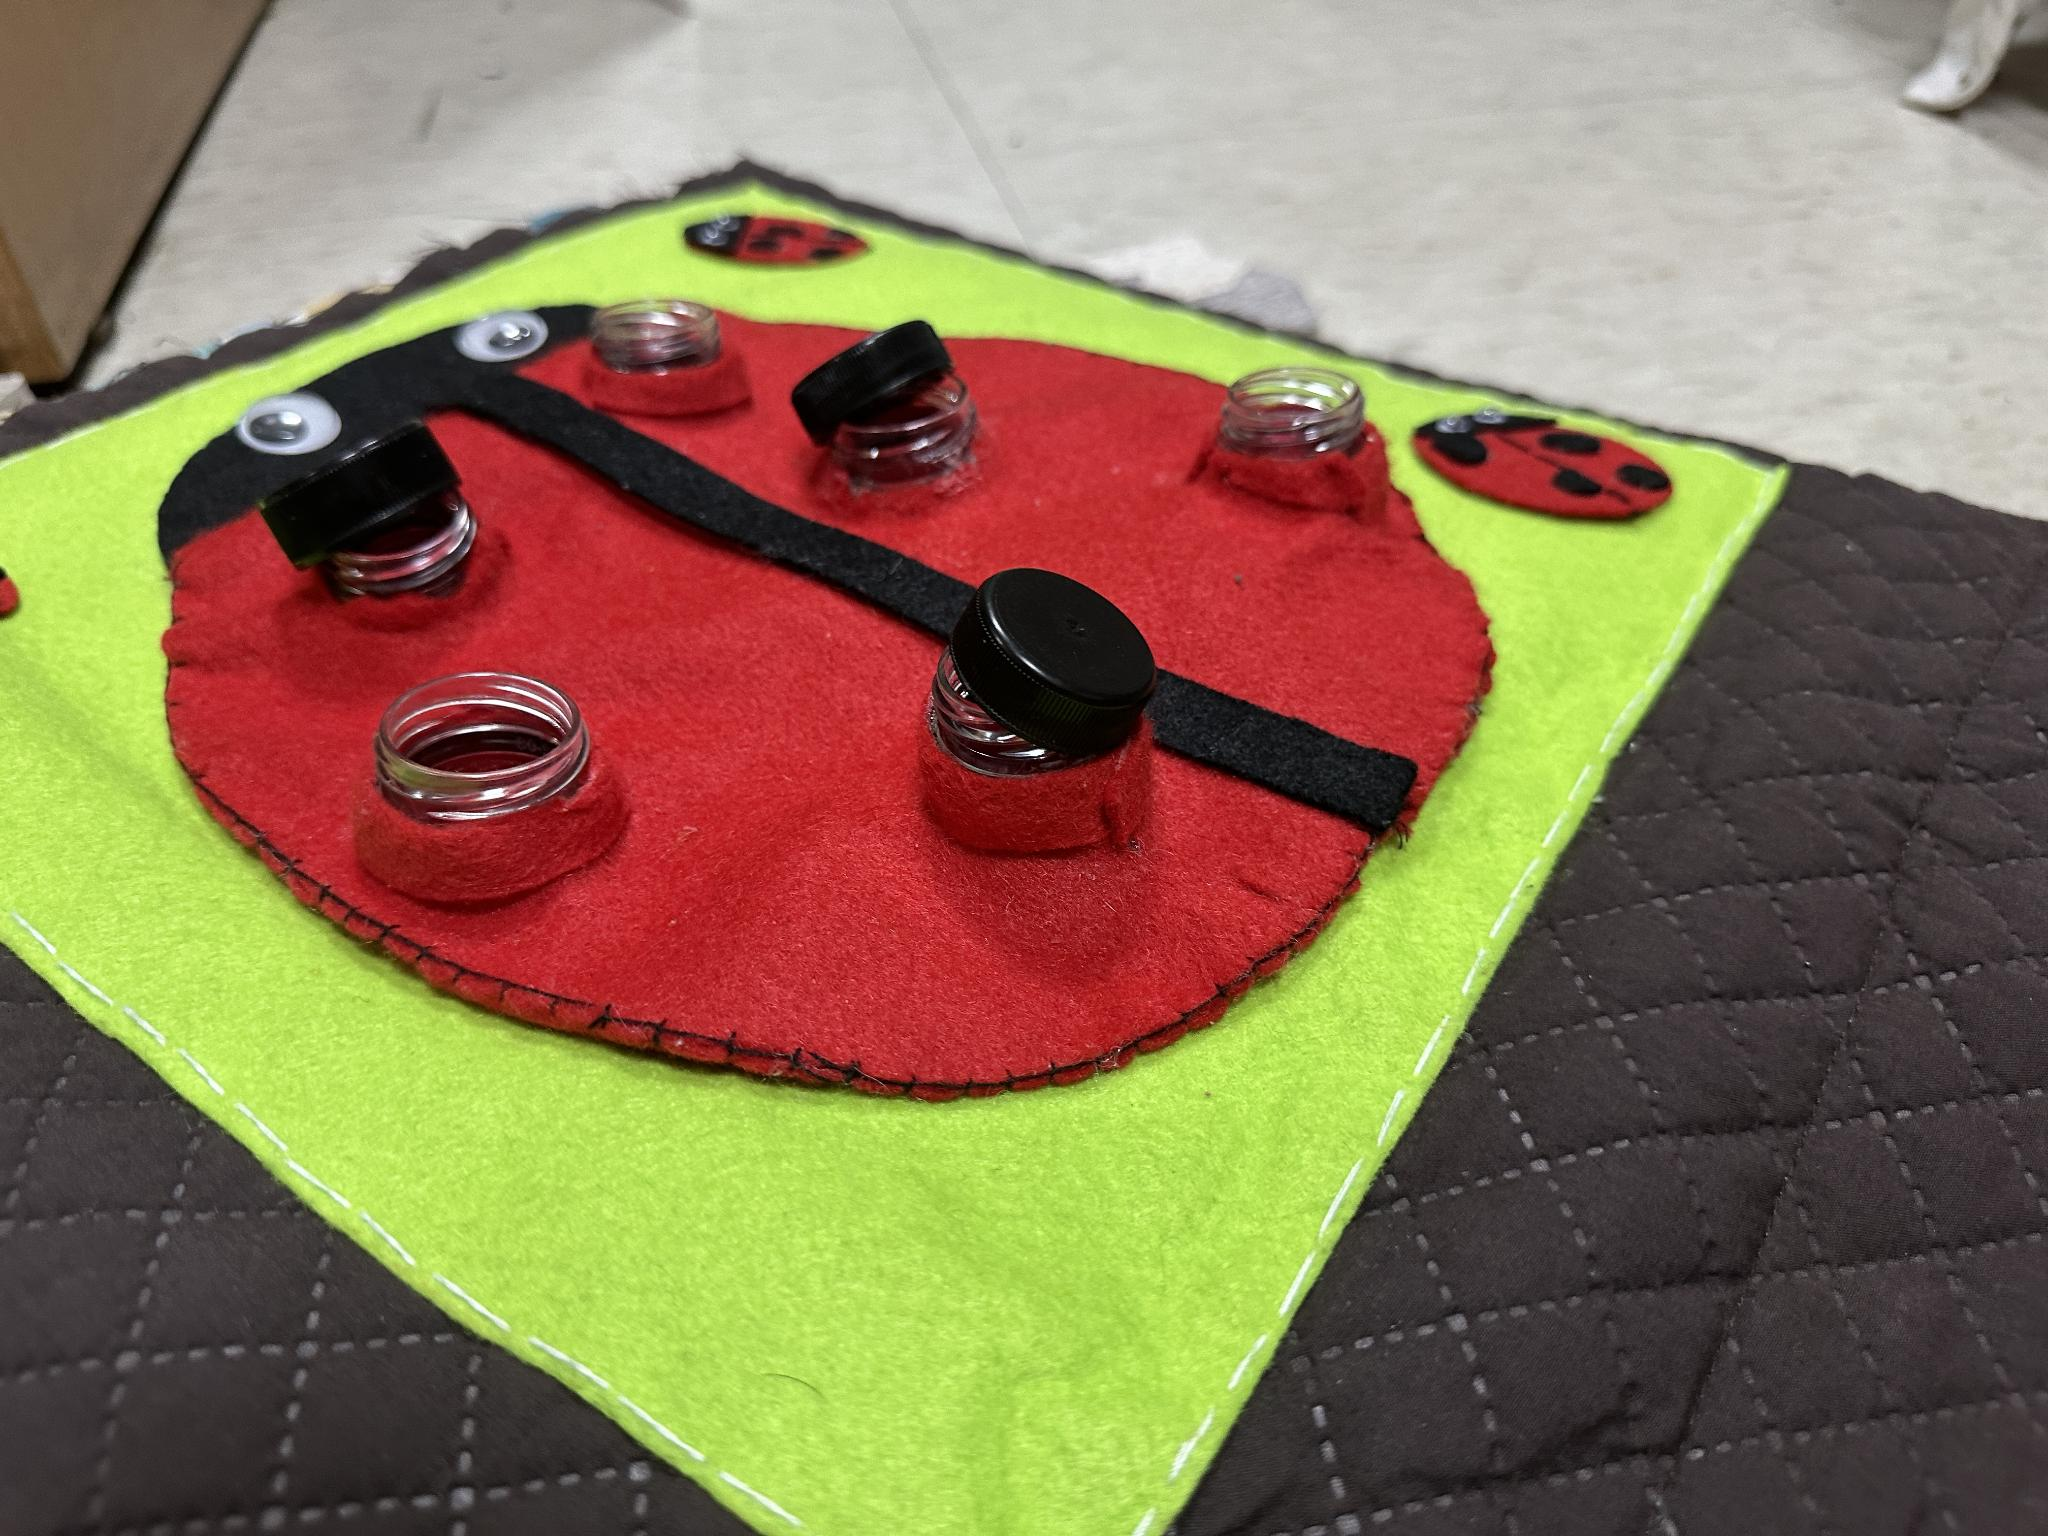cap_ng: (897, 550, 1195, 876), (244, 418, 532, 647), (790, 318, 1000, 520)
